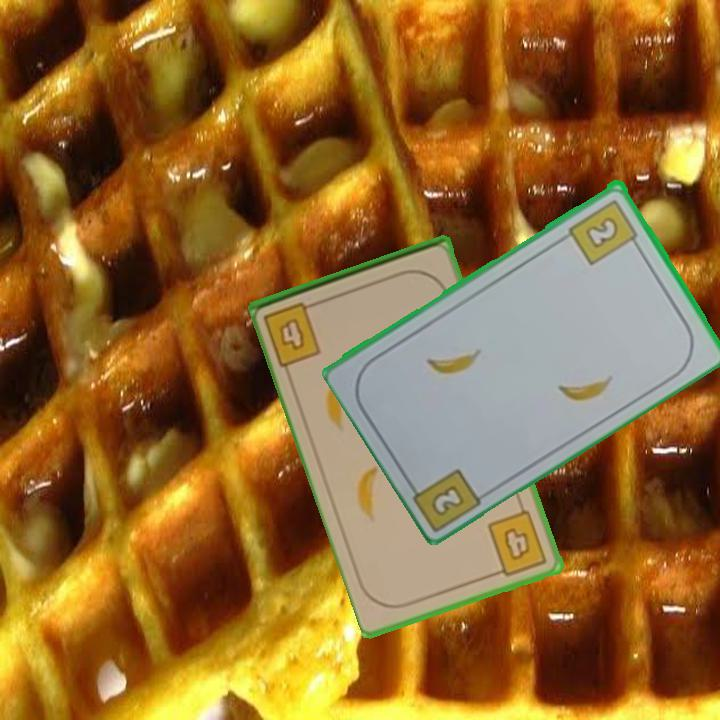2b: (565, 195, 644, 268), (427, 480, 468, 519)
4b: (484, 506, 550, 580), (260, 298, 325, 369)
